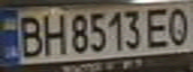1: (106, 8, 127, 52)
3: (121, 7, 145, 51)
5: (87, 9, 109, 53)
8: (66, 10, 90, 55)
B: (15, 11, 45, 58)
E: (142, 3, 175, 50)
H: (36, 10, 69, 56)
O: (163, 3, 193, 47)
